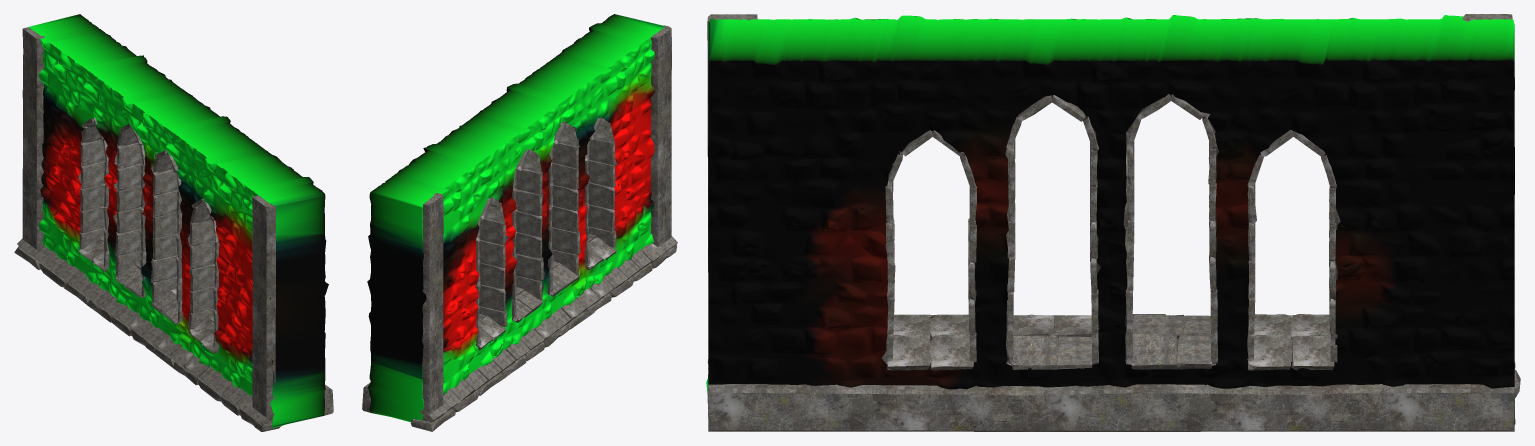
Rendered from SM_Middle_Arch.fbx.
3 renders of one model, left to right at view 1: azimuth 30°, elevation 25°; view 2: azimuth 150°, elevation 25°; view 3: azimuth 270°, elevation 25°, orthographic. The views are drawn at different scales.
Parts seen in each view (by area): view 1: SM_Middle_Arch_LOD0; view 2: SM_Middle_Arch_LOD0; view 3: SM_Middle_Arch_LOD0.
Part boxes in pixels (x1,y1,x2,y2): SM_Middle_Arch_LOD0: (14, 14, 333, 431); SM_Middle_Arch_LOD0: (362, 14, 677, 431); SM_Middle_Arch_LOD0: (706, 14, 1520, 431).
Bounding box in the file's own units: 172 × 1010 × 510.
